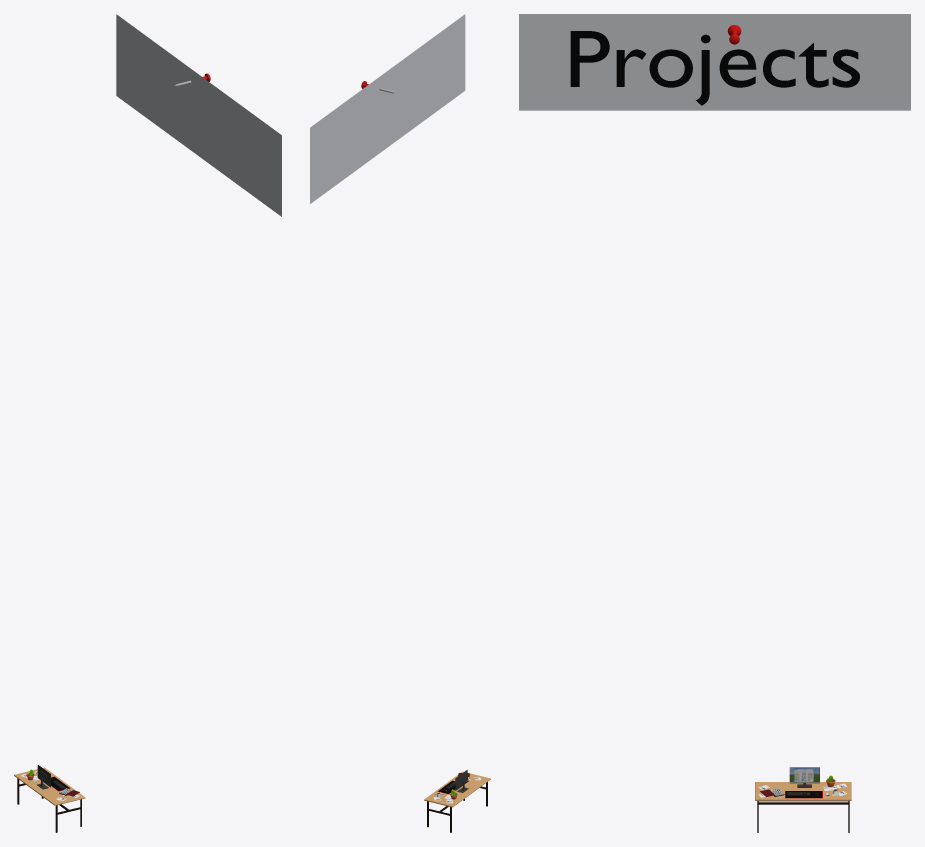
3 views of the same model, side by side, from view 1: azimuth 30°, elevation 25°; view 2: azimuth 150°, elevation 25°; view 3: azimuth 270°, elevation 25° (orthographic). The views are drawn at different scales.
Parts seen in each view (by area): view 1: Plane.008, Desk; view 2: Plane.008, Desk; view 3: Plane.008, Text.003, Desk.
Boxes of the visible parts, x1=… form: Plane.008: x1=116, y1=14, x2=281, y2=216; Desk: x1=14, y1=767, x2=85, y2=832; Plane.008: x1=310, y1=14, x2=465, y2=203; Desk: x1=424, y1=771, x2=490, y2=832; Plane.008: x1=519, y1=14, x2=910, y2=110; Text.003: x1=570, y1=31, x2=859, y2=105; Desk: x1=755, y1=782, x2=851, y2=832.
Size of what is drawn, in the model's own units: 11.15 by 54.35 by 22.03.
Materials: 31 (10 with a texture image).
